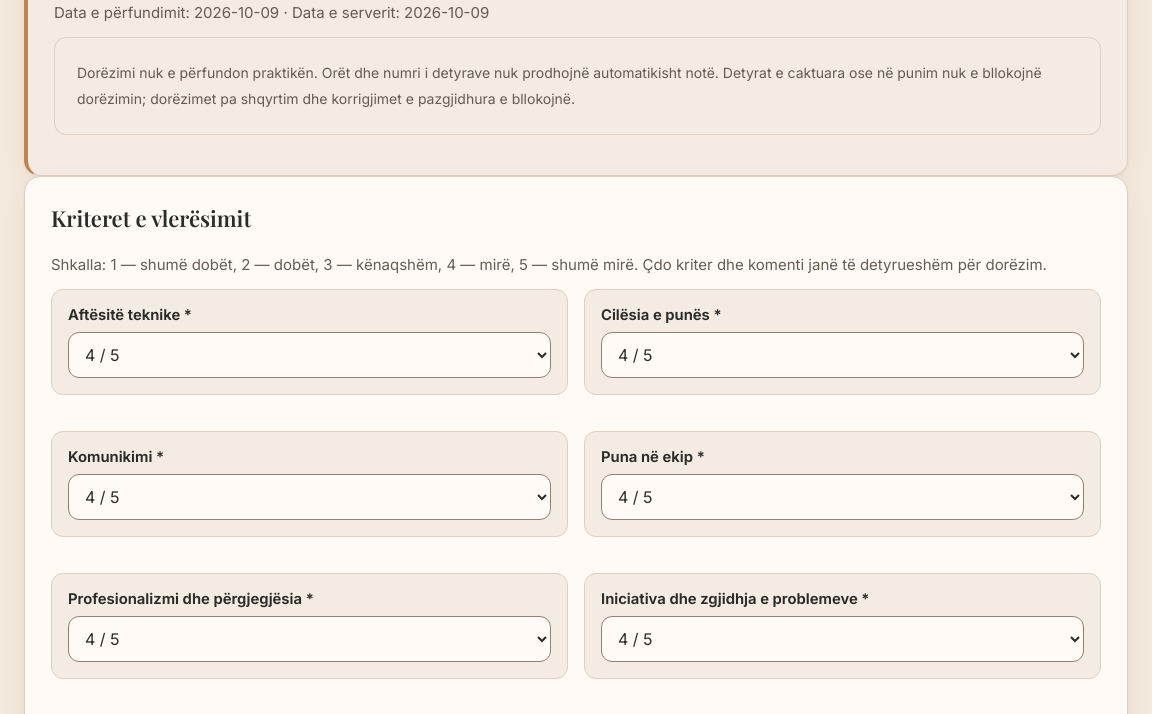
Test: reloads persisted draft and requires saving edits before submission
(page scrolled)
Select "5 / 5" in the dropdown labelled "Cilësia e punës *" at (842, 355), box [601,332,1084,378]
(page scrolled)
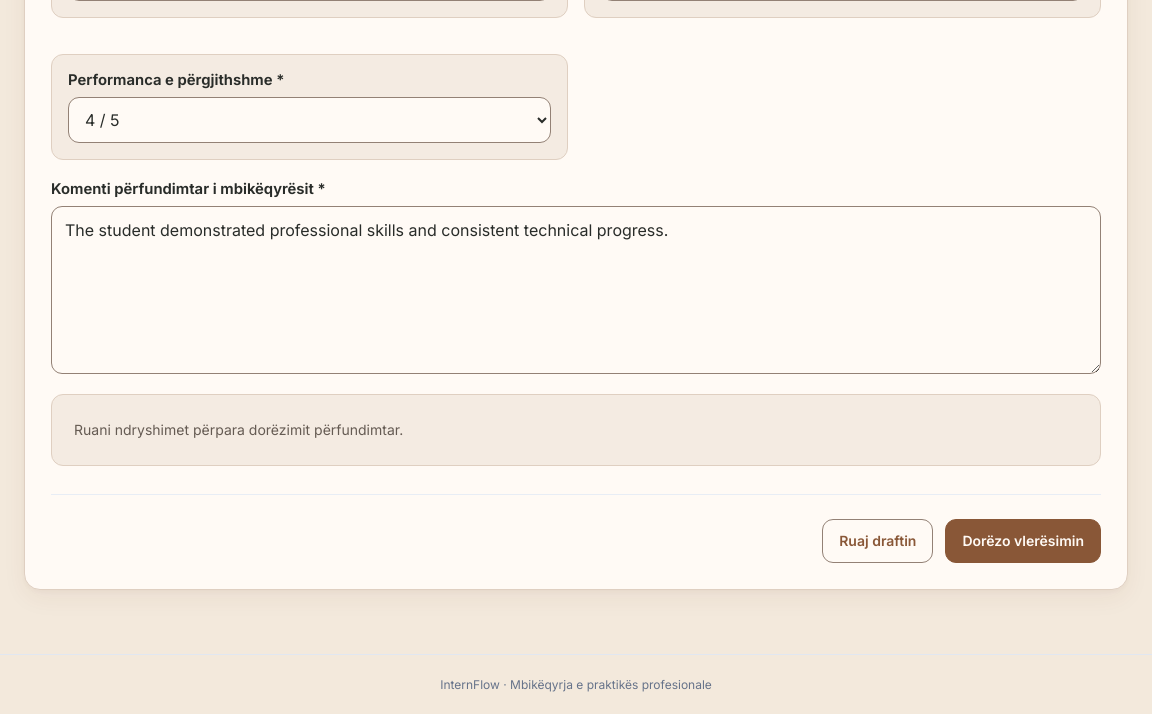
Result: the button "Dorëzo vlerësimin" is disabled at [945,519,1101,563]
Click the button "Ruaj draftin" at (878, 541), box [822,519,933,563]
(page scrolled)
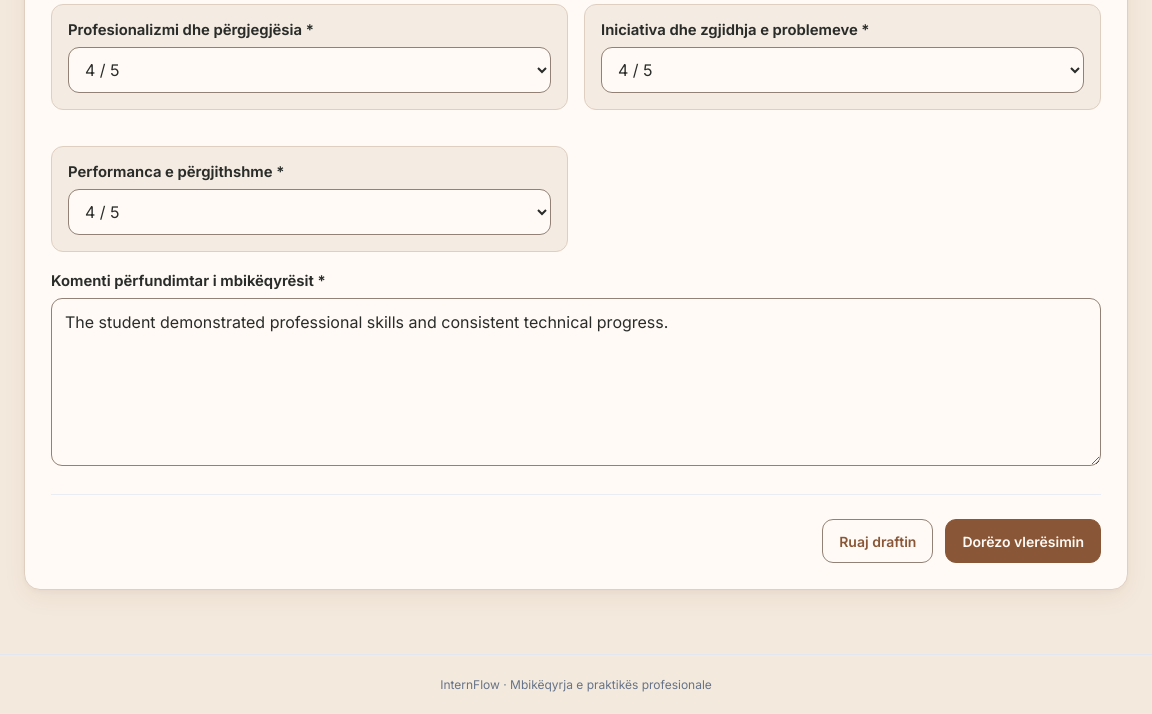
Result: the button "Dorëzo vlerësimin" is enabled at [945,519,1101,563]
